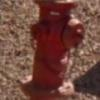a fire hydrant: (22, 0, 87, 98)
